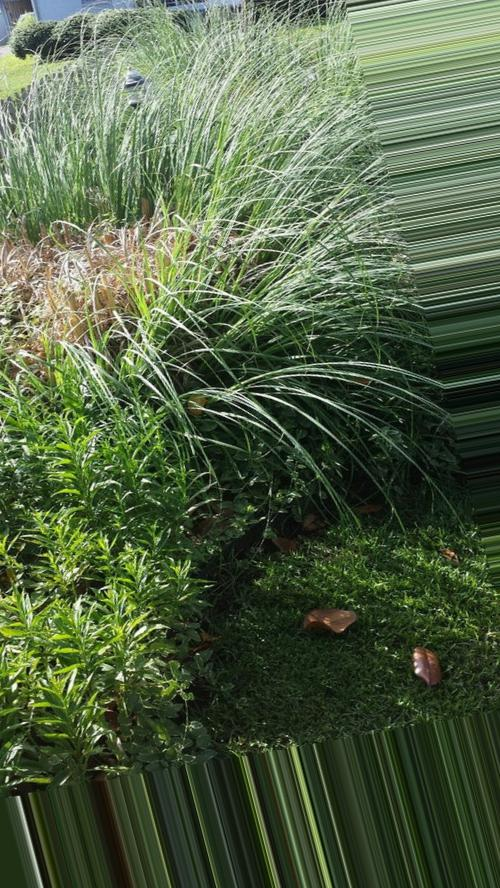patch: (20, 213, 211, 366)
